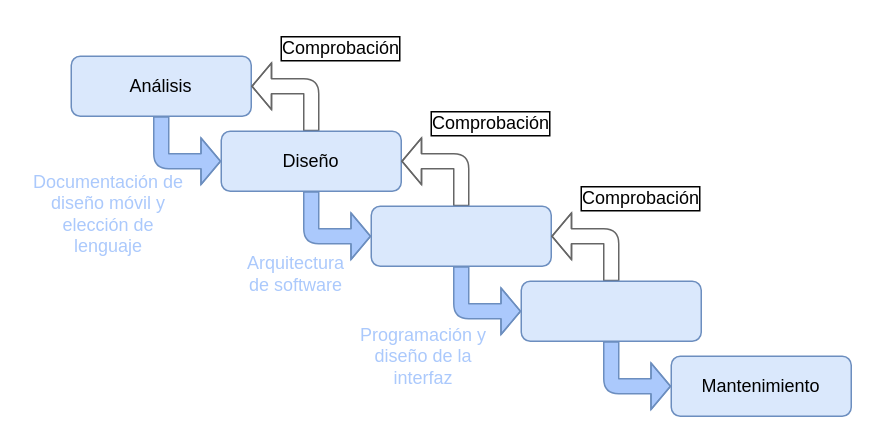
Image size: 878x443. Some labels were removed from this diagram. Each missing label, with the centre of its shape:
"Implementación" goes at (x=460, y=235).
"Verificación" goes at (x=610, y=310).
